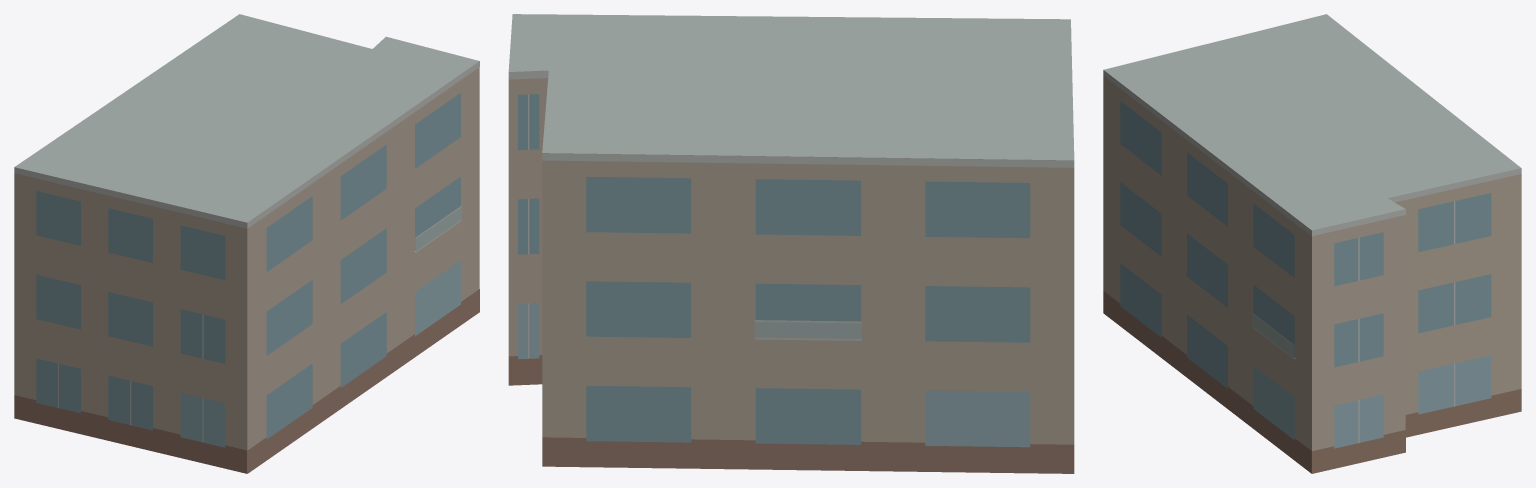
The model's file is survey-upis-32721860.glb.
3 renders of one model, left to right at view 1: azimuth 30°, elevation 25°; view 2: azimuth 150°, elevation 25°; view 3: azimuth 270°, elevation 25°, orthographic. The views are drawn at different scales.
Visible parts, largest first — view 1: survey-upis-32721860.tmp; view 2: survey-upis-32721860.tmp; view 3: survey-upis-32721860.tmp.
Boxes of the visible parts, x1,y1,x2,y2 form: survey-upis-32721860.tmp: (14,14,479,473); survey-upis-32721860.tmp: (508,14,1074,473); survey-upis-32721860.tmp: (1103,14,1521,473).
Bounding box in the file's own units: 19.46 × 10.2 × 15.89.
